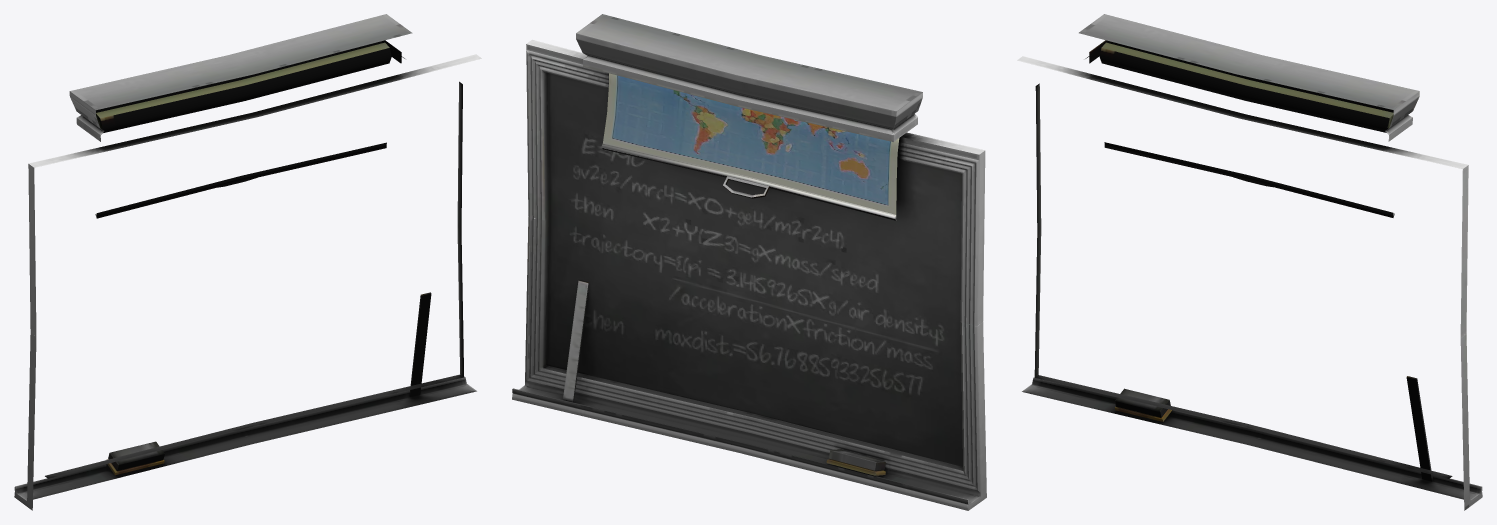
The picture shows the model from 3 angles, left to right: view 1: azimuth 30°, elevation 25°; view 2: azimuth 150°, elevation 25°; view 3: azimuth 330°, elevation 25°; orthographic projection.
Visible parts, largest first — view 1: body0_model0_lod0_mesh0; view 2: body0_model0_lod0_mesh0; view 3: body0_model0_lod0_mesh0.
Part boxes in pixels (x1,y1,x2,y2): body0_model0_lod0_mesh0: (14, 14, 481, 510); body0_model0_lod0_mesh0: (512, 14, 986, 510); body0_model0_lod0_mesh0: (1017, 14, 1482, 510).
Bounding box in the file's own units: 131 × 107 × 13.2.
Materials: 1 (1 with a texture image).
